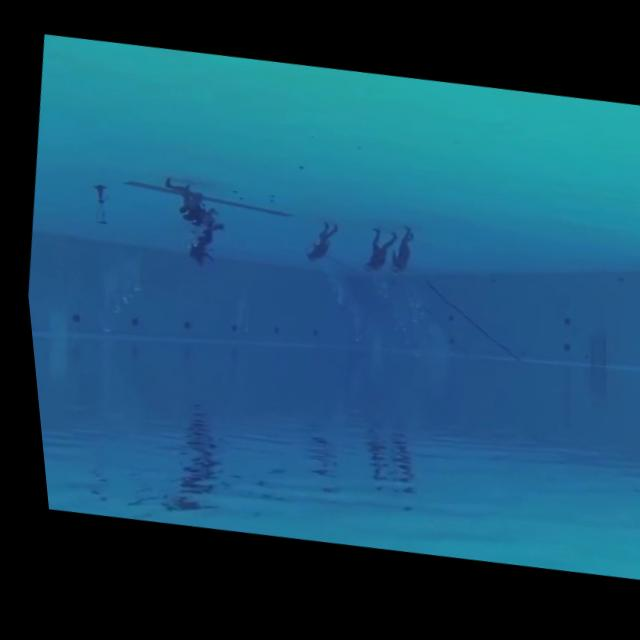human: (152, 173, 229, 234), (345, 223, 399, 289), (172, 218, 225, 282), (293, 215, 345, 276), (377, 225, 425, 288)
